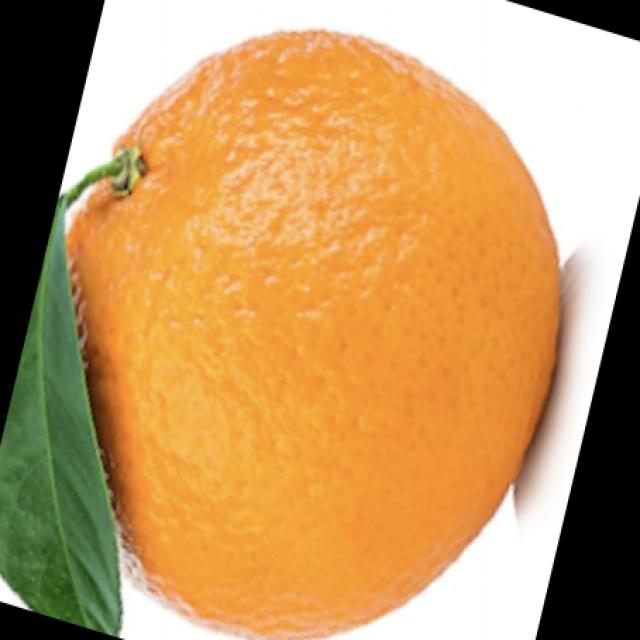fresh: (0, 25, 569, 640)
